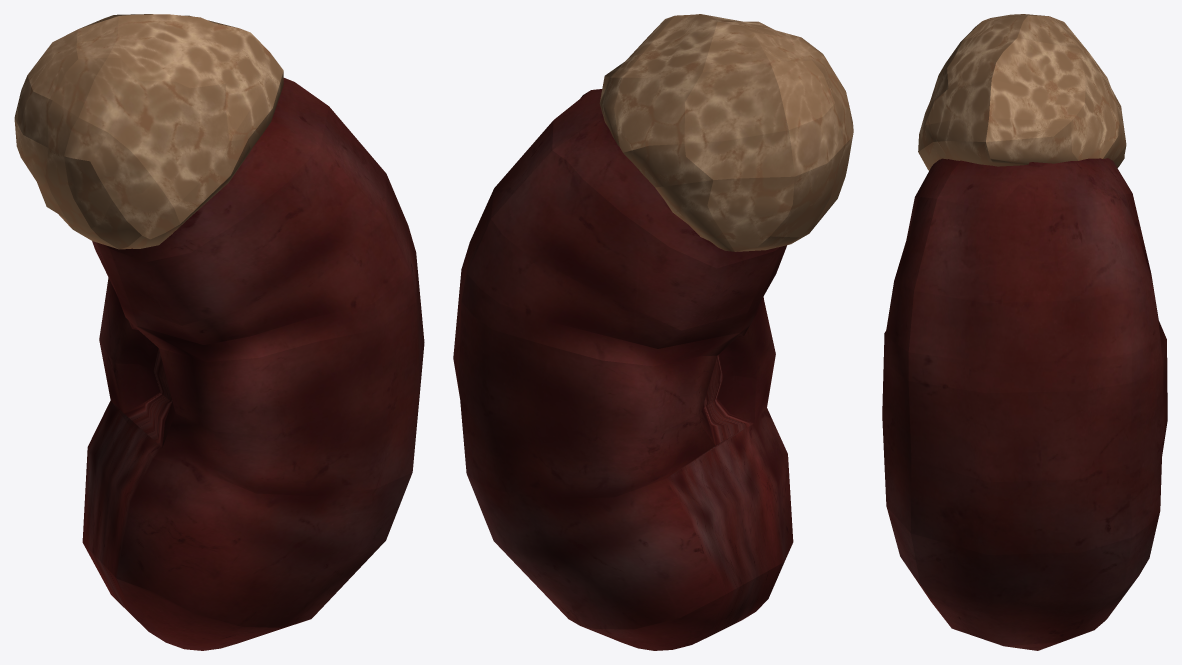
Rendered from kidney.fbx.
3 renders of one model, left to right at view 1: azimuth 30°, elevation 25°; view 2: azimuth 150°, elevation 25°; view 3: azimuth 270°, elevation 25°, orthographic. The views are drawn at different scales.
Parts seen in each view (by area): view 1: kidney; view 2: kidney; view 3: kidney.
Boxes of the visible parts, x1,y1,x2,y2 form: kidney: (14,14,424,650); kidney: (453,14,853,650); kidney: (882,14,1167,650).
Bounding box in the file's own units: 146 × 242 × 109.
Materials: 1 (1 with a texture image).
